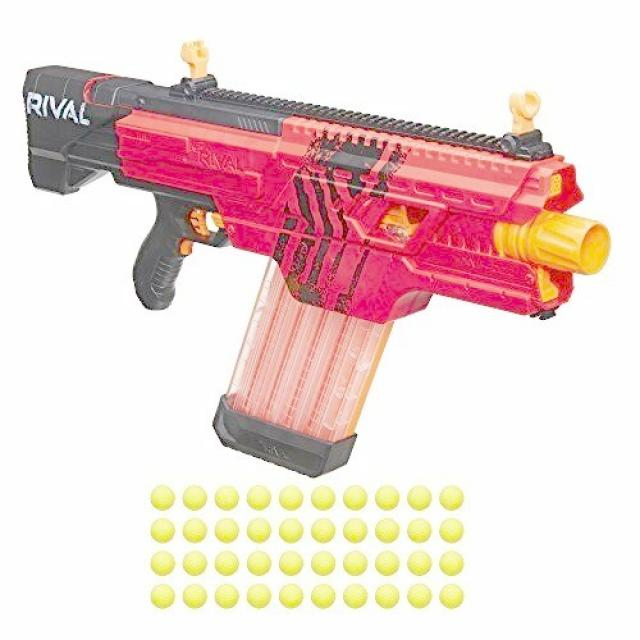Nerf gun: (22, 36, 613, 484)
